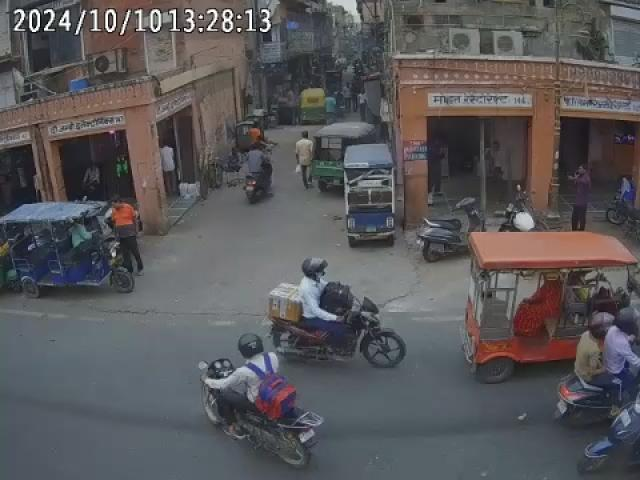auto: (462, 230, 640, 385), (4, 200, 122, 300), (341, 142, 399, 246), (299, 88, 327, 126)
helmet: (238, 335, 268, 359), (300, 256, 330, 280), (588, 310, 613, 338), (616, 306, 640, 334)
motorbike-rider: (198, 335, 326, 474), (263, 256, 408, 370)
person: (108, 197, 144, 280), (568, 164, 593, 229), (294, 131, 314, 190)
scooty: (418, 194, 486, 260)
scooty-rider: (556, 314, 640, 429), (240, 141, 274, 204)
